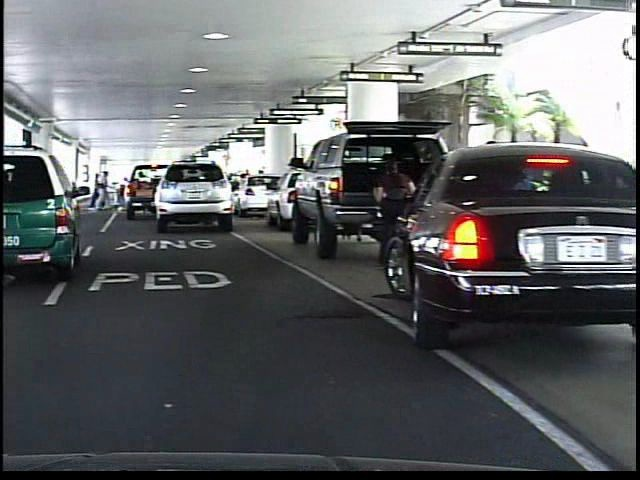person: (367, 152, 418, 264)
